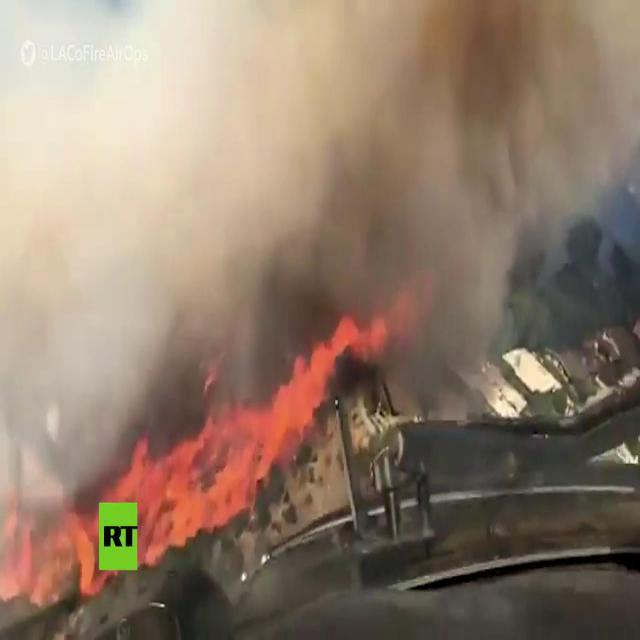Fire: (7, 313, 386, 603)
